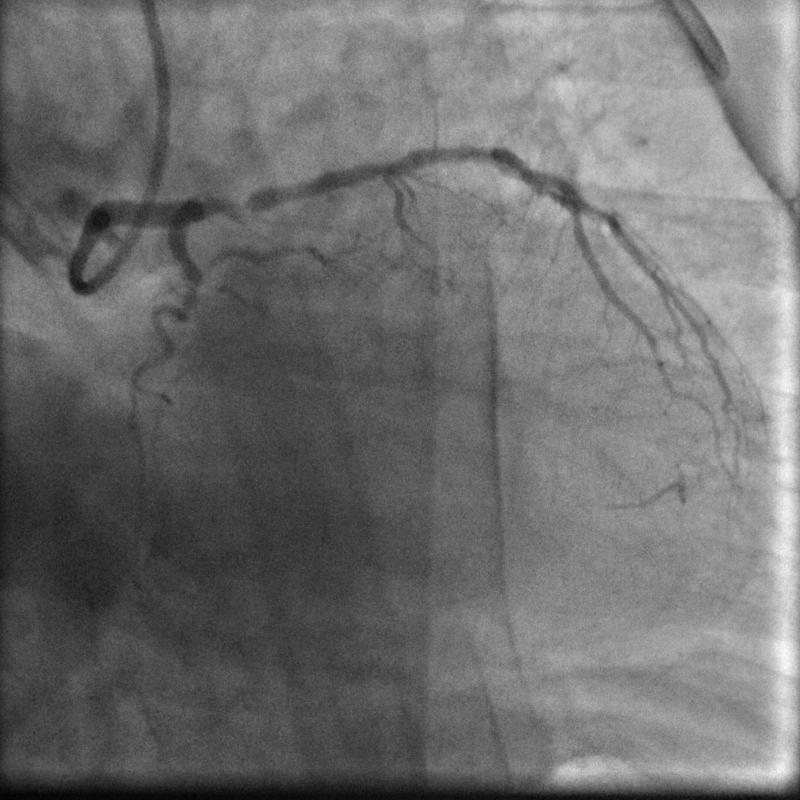Stenosis: (199, 181, 268, 218)
